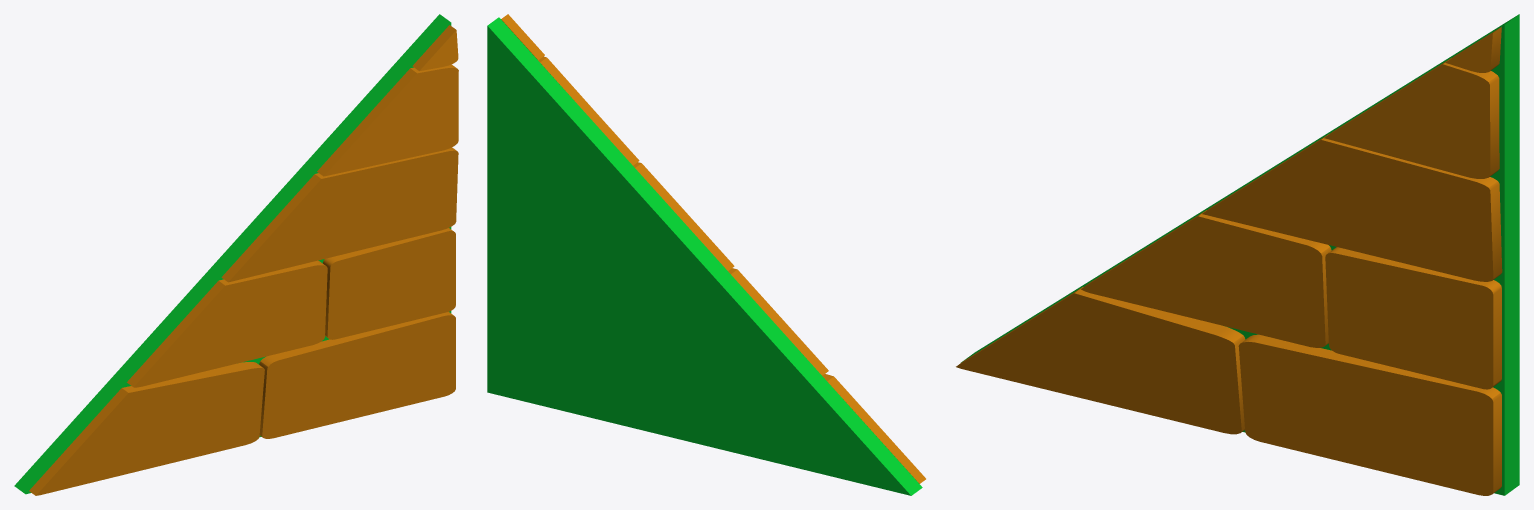
The model's file is Unity HD Render Pipeline (Metallic Standard).fbx.
The picture shows the model from 3 angles, left to right: view 1: azimuth 30°, elevation 25°; view 2: azimuth 150°, elevation 25°; view 3: azimuth 330°, elevation 25°; orthographic projection. The views are drawn at different scales.
Visible parts, largest first — view 1: RoofWallExterior (×2); view 2: RoofWallExterior (×2); view 3: RoofWallExterior (×2).
Boxes of the visible parts, <box> form: RoofWallExterior (×2): <box>14,14,458,495</box>; RoofWallExterior (×2): <box>487,14,925,495</box>; RoofWallExterior (×2): <box>956,14,1519,495</box>.
Bounding box in the file's own units: 2.14 × 1.77 × 0.2151.
